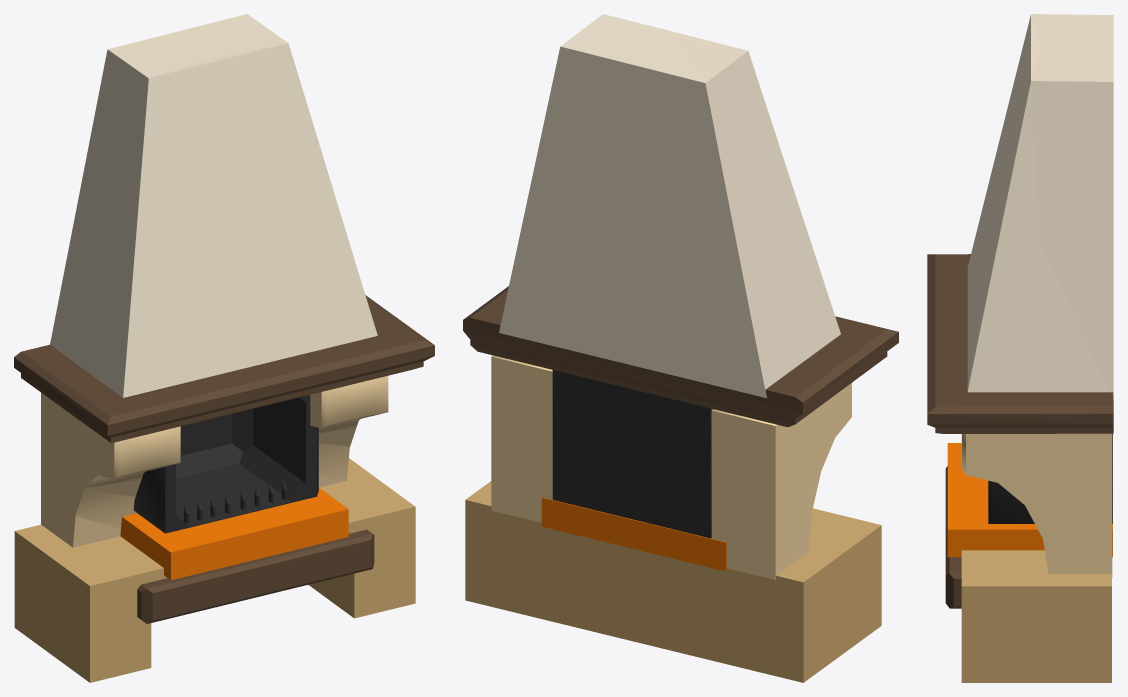
The model's file is fireplace.fbx.
3 views of the same model, side by side, from view 1: azimuth 30°, elevation 25°; view 2: azimuth 150°, elevation 25°; view 3: azimuth 270°, elevation 25° (orthographic). The views are drawn at different scales.
Parts seen in each view (by area): view 1: hote, socle_reserve_bois, poutre, foyer_f, montantg, brique, poutre_bas, montantdr; view 2: hote, socle_reserve_bois, foyer_f, montantg, poutre, montantdr, brique; view 3: hote, socle_reserve_bois, montantdr, poutre, brique, foyer_f, poutre_bas.
Part boxes in pixels (<box>): hote: <box>50,14,377,397</box>; socle_reserve_bois: <box>14,458,415,682</box>; poutre: <box>14,295,434,442</box>; foyer_f: <box>133,395,318,533</box>; montantg: <box>41,392,180,547</box>; brique: <box>120,487,348,580</box>; poutre_bas: <box>137,529,374,623</box>; montantdr: <box>310,376,388,487</box>; hote: <box>499,14,840,398</box>; socle_reserve_bois: <box>465,481,881,682</box>; foyer_f: <box>552,370,712,538</box>; montantg: <box>710,383,851,579</box>; poutre: <box>463,286,898,427</box>; montantdr: <box>491,355,557,522</box>; brique: <box>541,497,726,571</box>; hote: <box>967,14,1113,400</box>; socle_reserve_bois: <box>961,434,1111,682</box>; montantdr: <box>962,433,1112,577</box>; poutre: <box>927,254,1113,433</box>; brique: <box>947,443,1112,557</box>; foyer_f: <box>988,433,1112,523</box>; poutre_bas: <box>945,466,961,608</box>.
Bounding box in the file's own units: 4.63 × 7.52 × 2.28.
